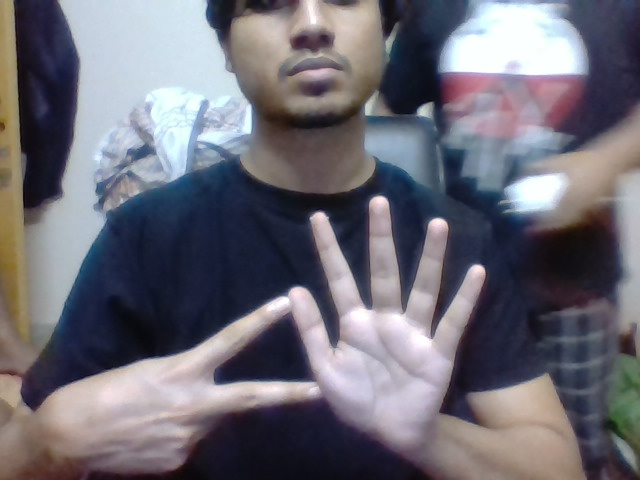N: (205, 288, 290, 419)
